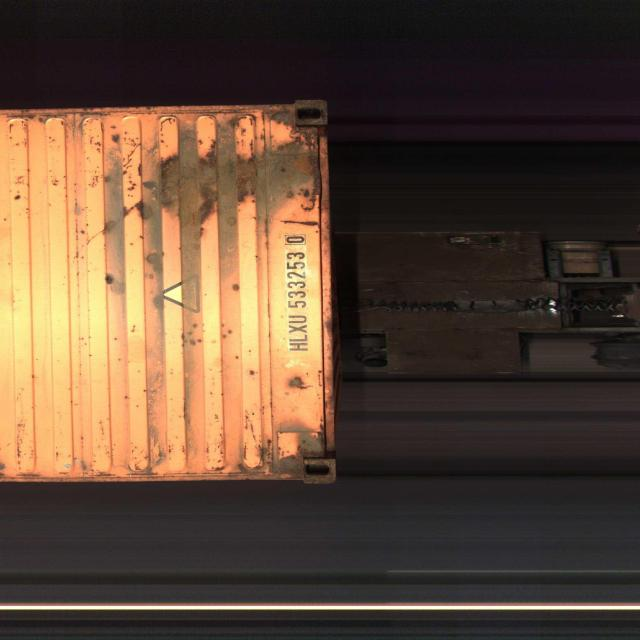rust: (159, 145, 320, 225), (256, 426, 327, 464), (285, 372, 315, 394)
